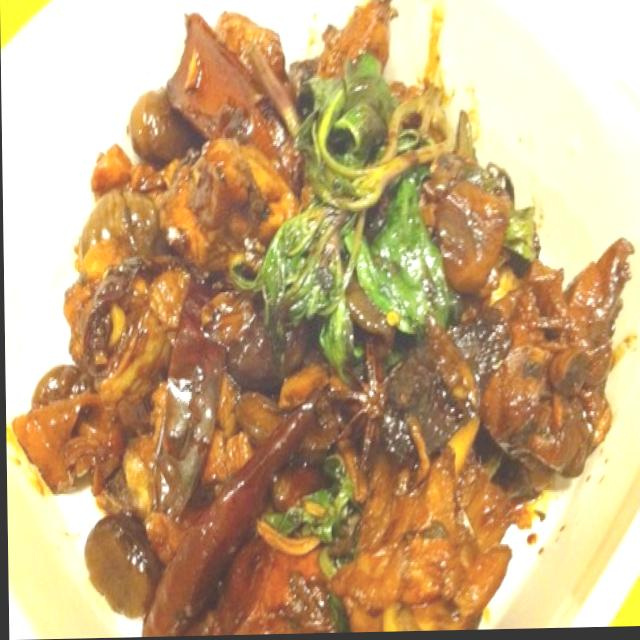鸡肉料理 含炸鸡: (10, 0, 625, 638)
